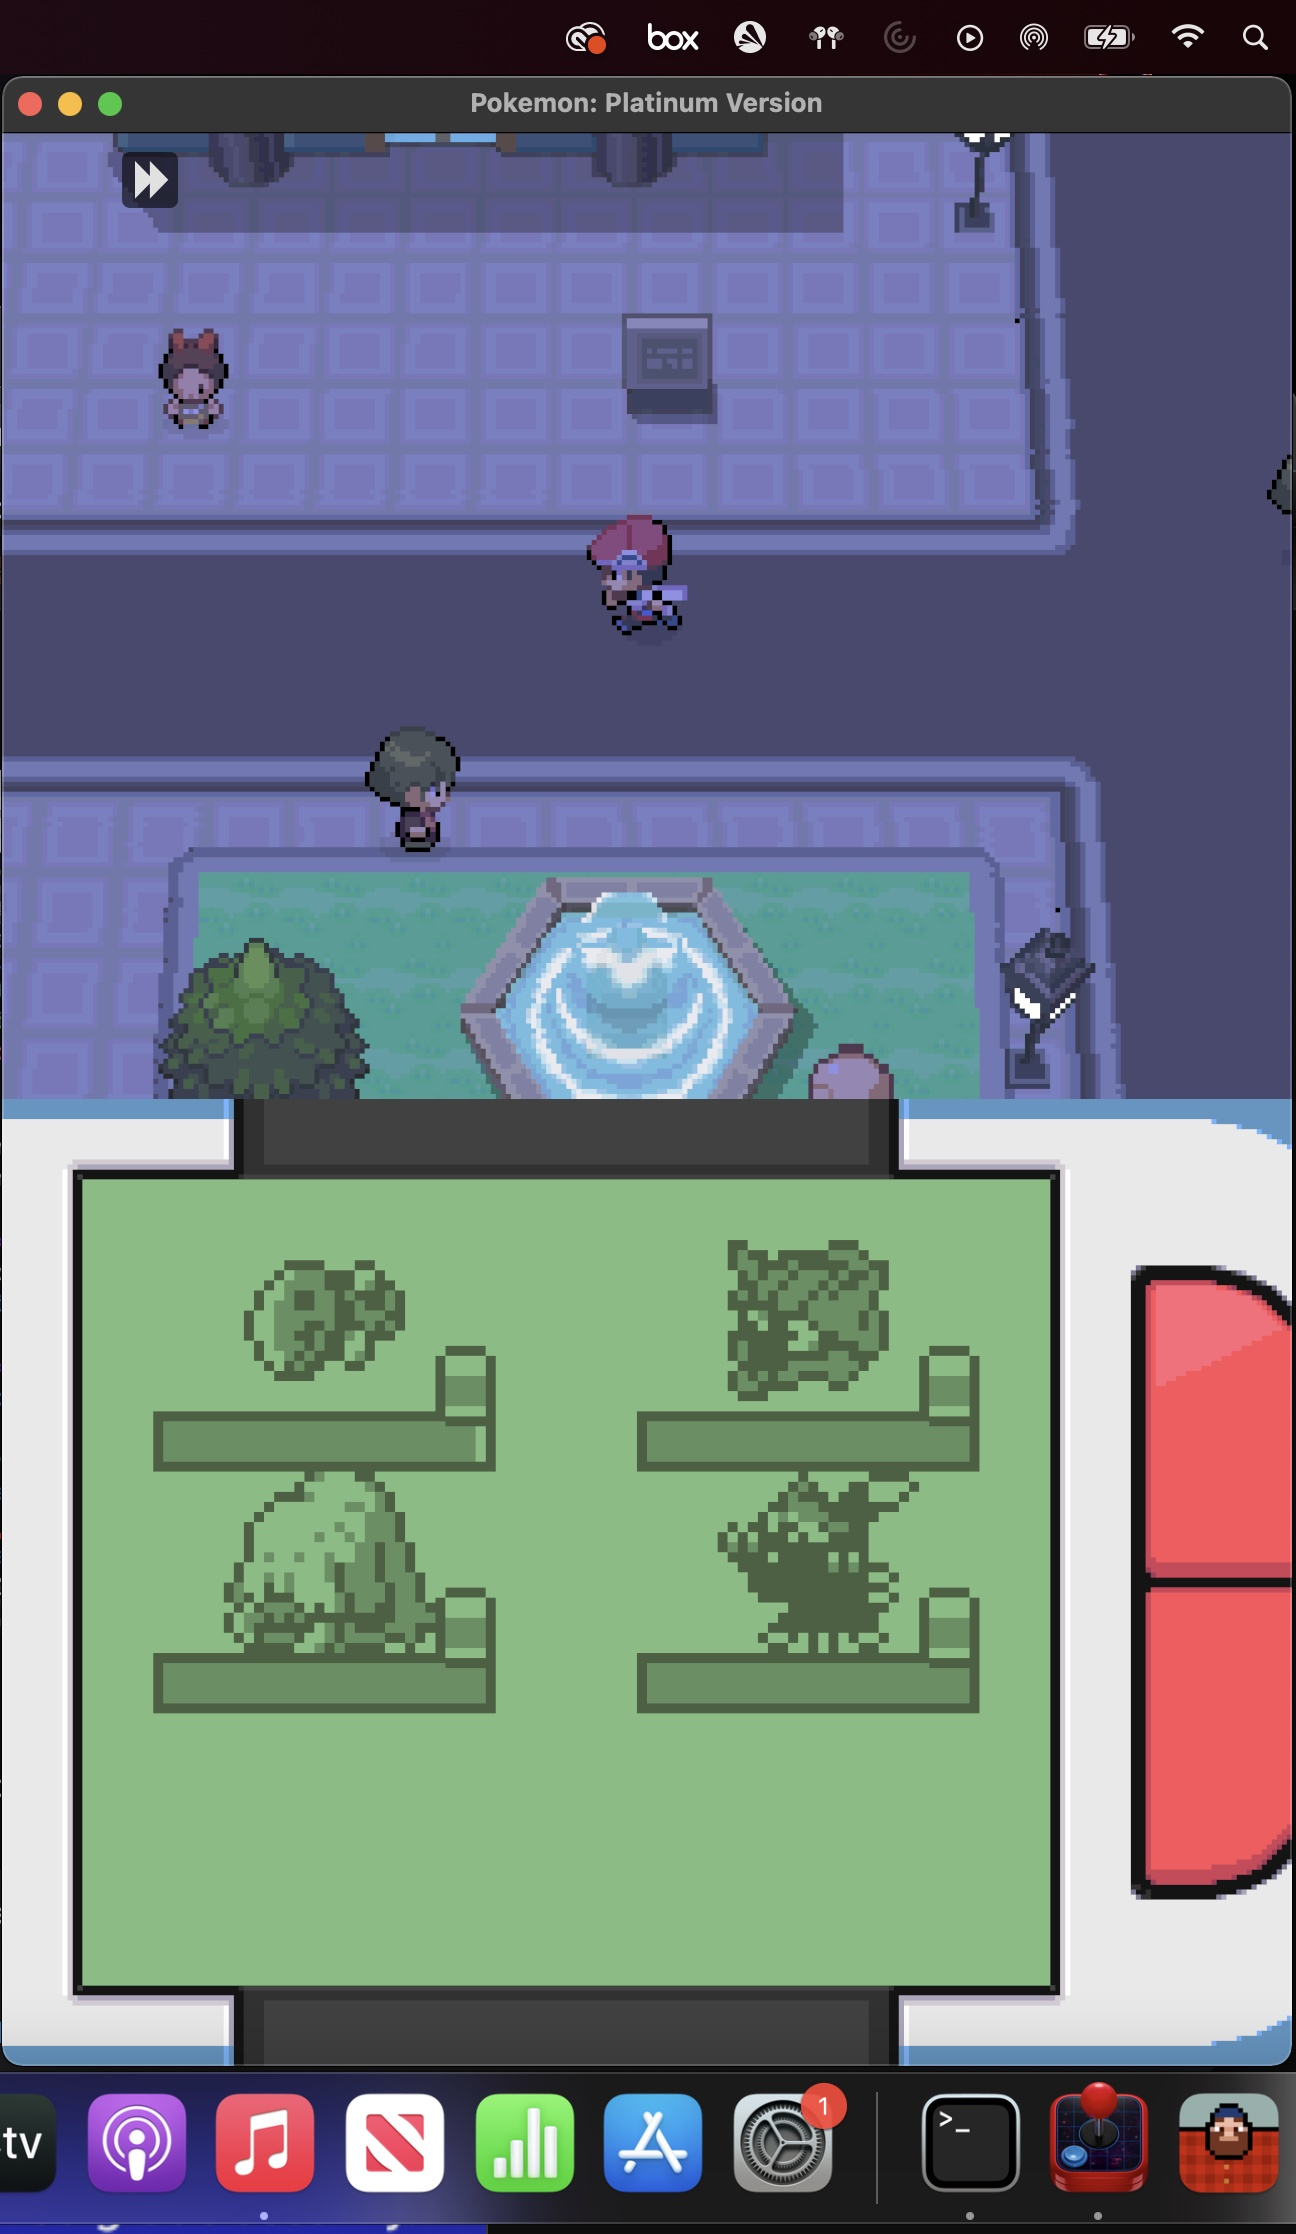player: (561, 509, 706, 645)
